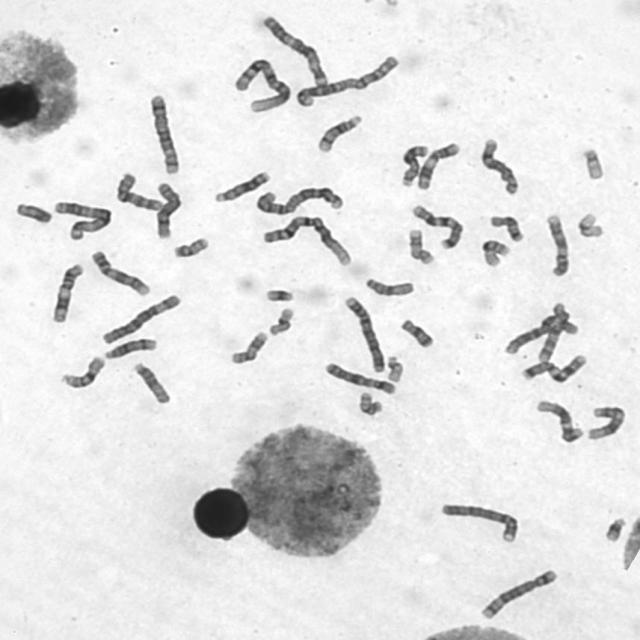A1: (260, 214, 355, 268), (230, 57, 294, 113)
A2: (296, 54, 402, 108), (255, 186, 347, 216)
A3: (260, 15, 328, 88), (54, 200, 114, 240)
B4: (436, 503, 522, 544), (342, 296, 387, 372)
B5: (480, 568, 559, 620), (148, 93, 181, 175)
C10: (114, 172, 166, 212), (537, 315, 579, 363)
C11: (51, 263, 87, 322), (416, 142, 460, 190)
C12: (535, 397, 583, 443), (587, 405, 626, 441)
C6: (102, 294, 182, 344), (498, 316, 580, 356)
C7: (412, 204, 464, 249), (520, 351, 588, 384)
C8: (481, 137, 520, 195), (155, 181, 184, 240)
C9: (89, 250, 151, 296), (544, 213, 570, 278)
D13: (212, 168, 272, 203), (399, 144, 428, 187)
D14: (316, 114, 364, 154), (104, 337, 158, 360)
D15: (132, 361, 174, 405), (363, 276, 416, 298)
E16: (59, 354, 106, 390), (480, 239, 512, 268)
E17: (229, 330, 268, 366), (407, 228, 435, 264)
E18: (400, 319, 435, 349), (488, 214, 525, 242)
F19: (572, 211, 606, 240), (267, 306, 295, 337)
F20: (172, 237, 213, 259), (359, 392, 383, 417)
G21: (604, 516, 628, 543), (264, 287, 297, 302)
G22: (582, 148, 606, 180), (386, 354, 405, 383)
X: (325, 362, 398, 396)
Y: (15, 201, 52, 225)
